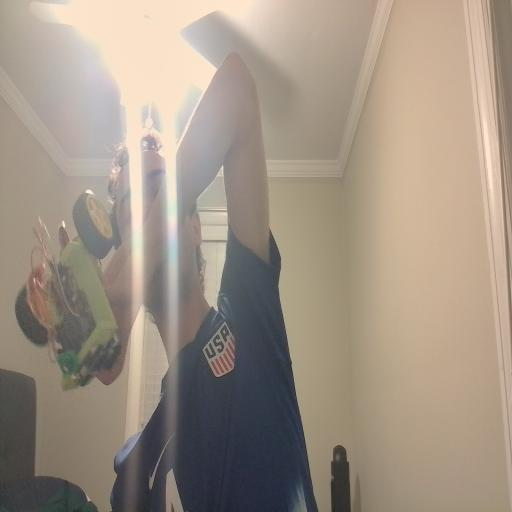green LEGO minifig: (57, 350, 81, 376)
